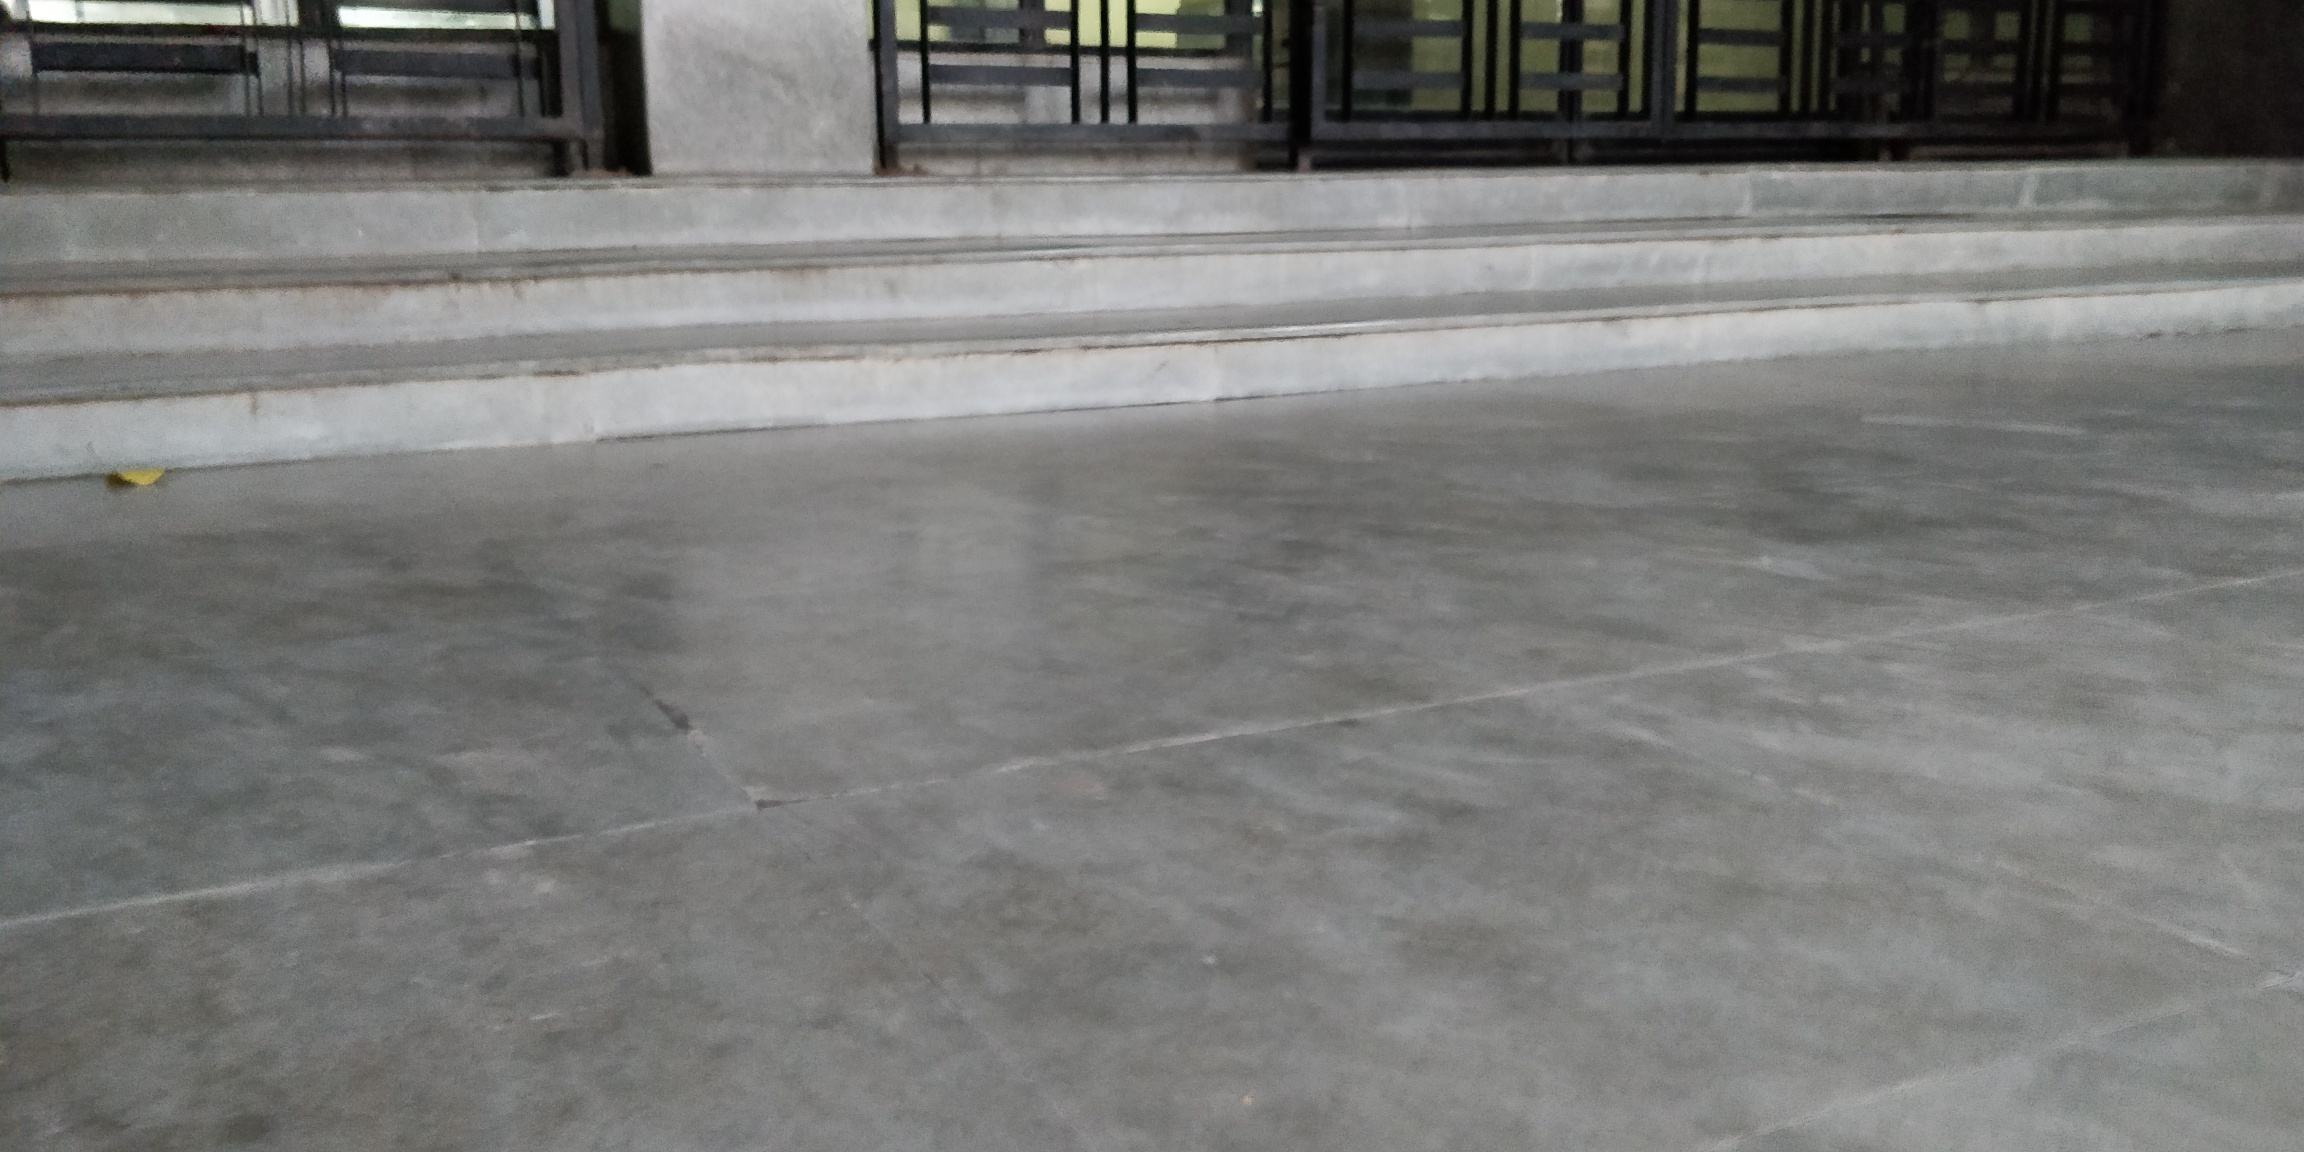stairs_up: (35, 150, 2258, 439)
